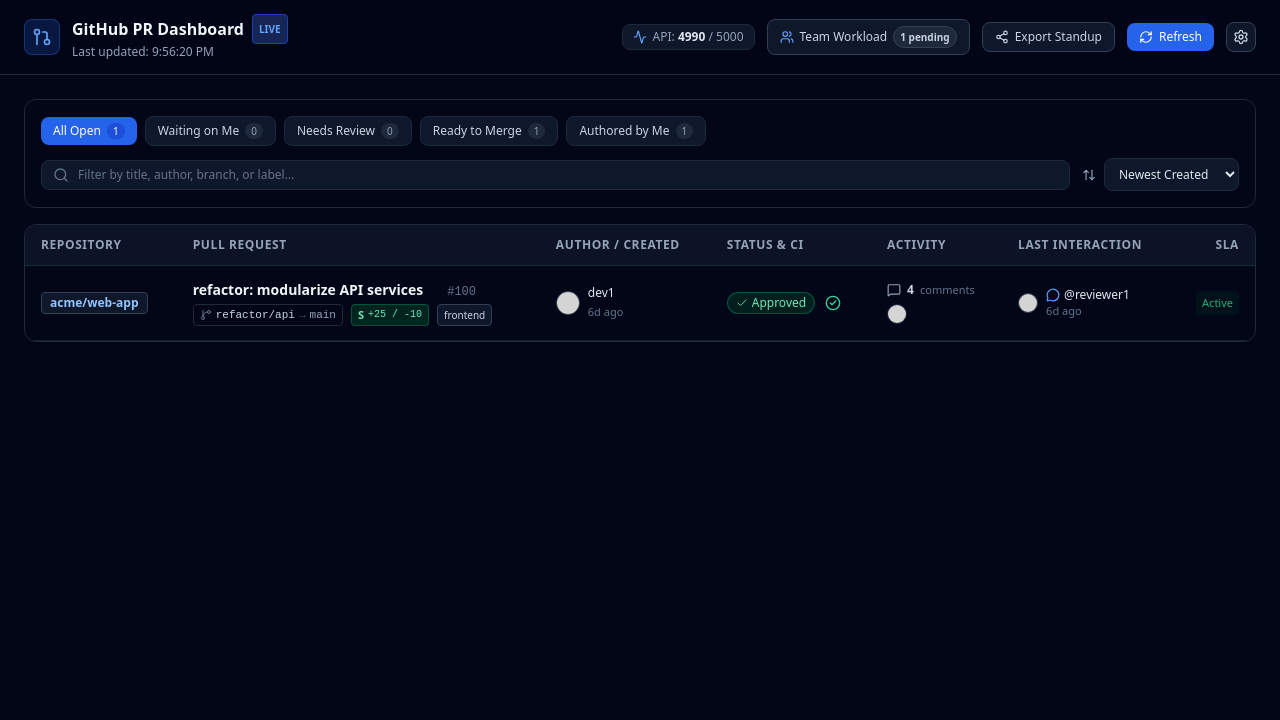
Test: App Main Dashboard Integration › opens and closes the ExportModal
Check: the link "refactor: modularize API services" is shown, box [193,280,439,300]
Click the button "Export Standup" at (1048, 37), box [982,22,1115,52]
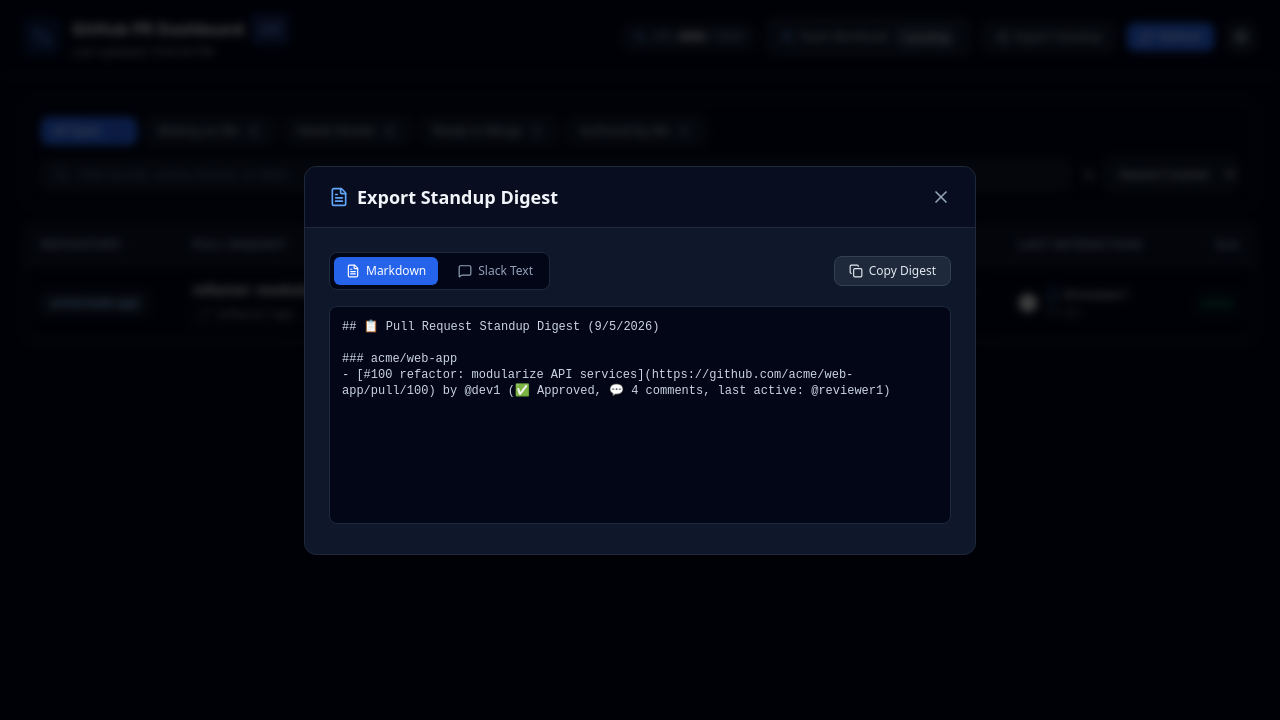
Click the button named "close" at (941, 196), box [931,186,951,206]
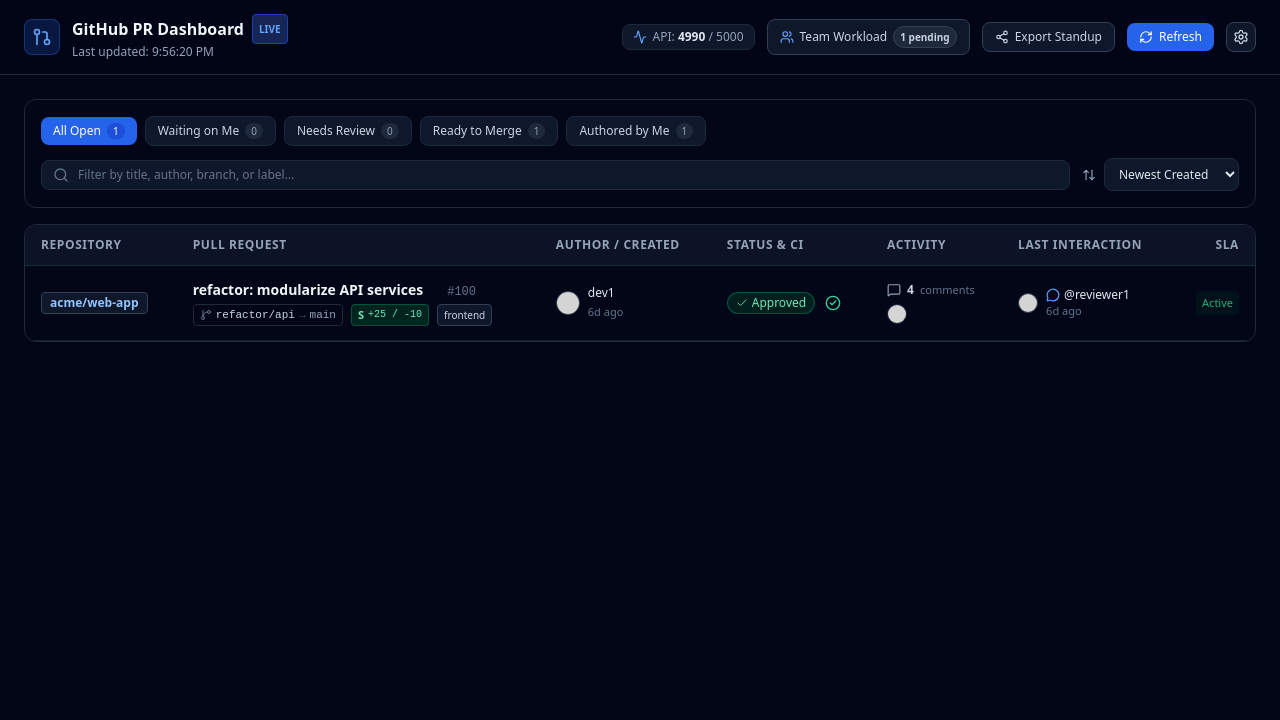
Check: the heading "Export Standup Digest" is gone
